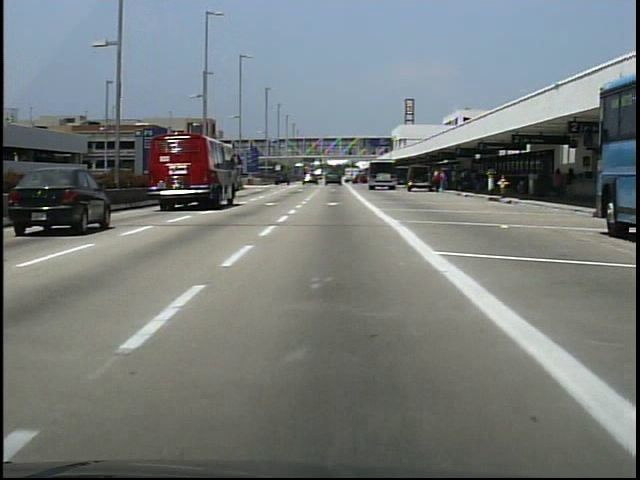person: (435, 173, 444, 197)
